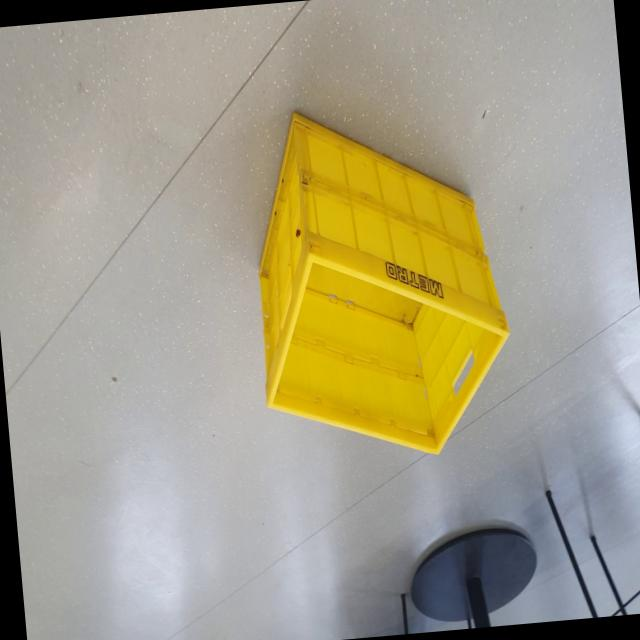box: (233, 76, 526, 481)
